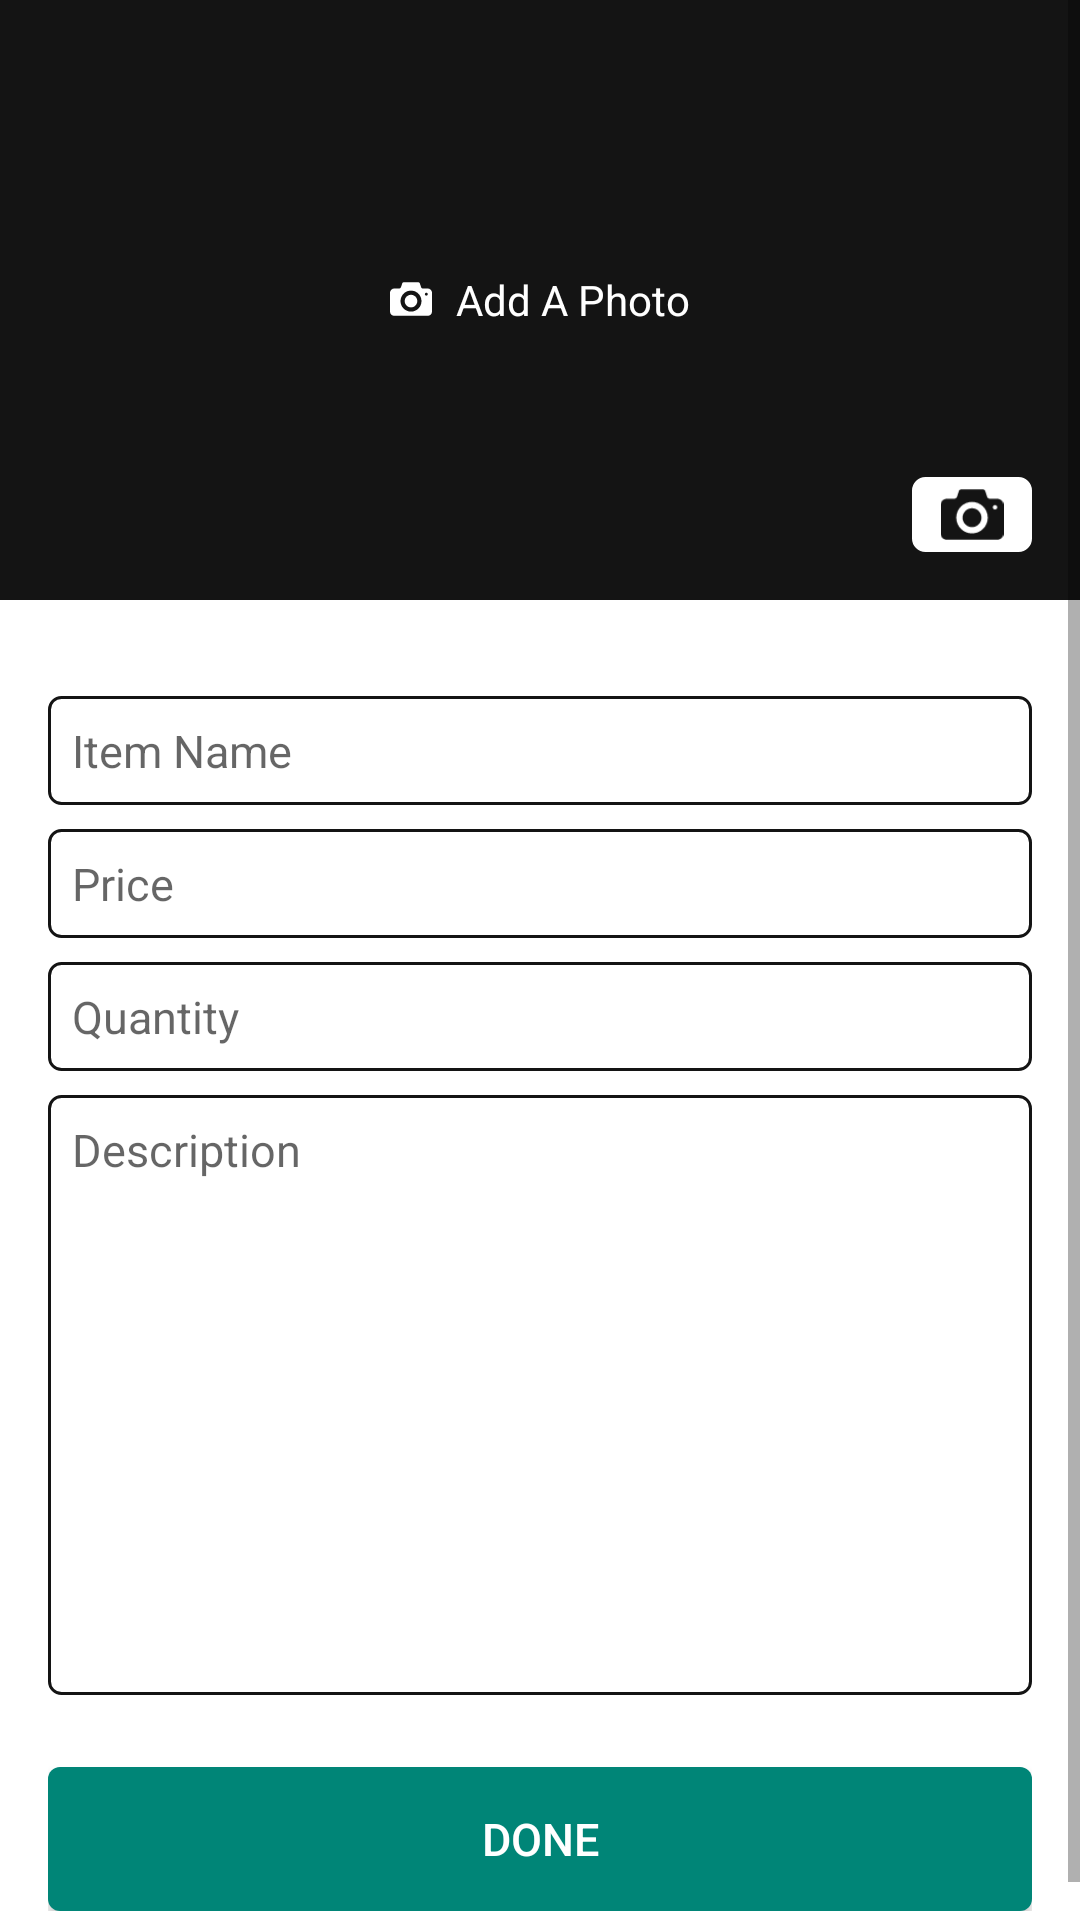

Locate icon controls on the screen. Image size 1080px x 1920px, boxes as (x1, y1, x2, y2).
photo camera: (912, 477, 1032, 552)
